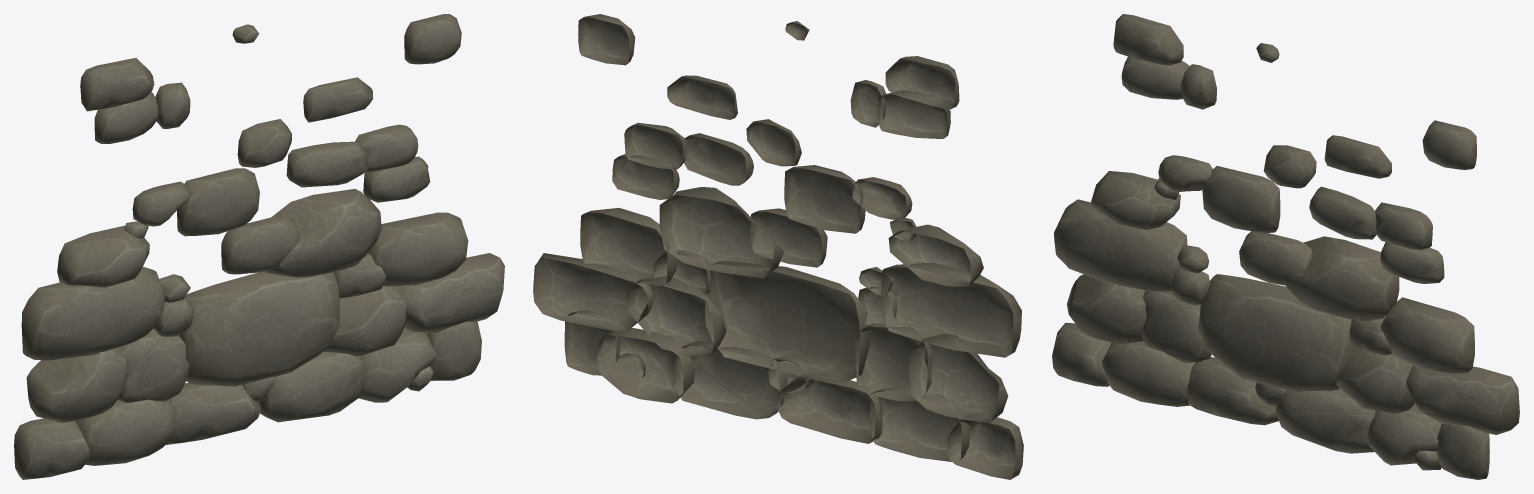
The model's file is MSH_fwOF_Ruins_Wall_Bricks_02.fbx.
The picture shows the model from 3 angles, left to right: view 1: azimuth 30°, elevation 25°; view 2: azimuth 150°, elevation 25°; view 3: azimuth 330°, elevation 25°; orthographic projection. The views are drawn at different scales.
Visible parts, largest first — view 1: MSH_fwOF_Ruins_Wall_Bricks_02; view 2: MSH_fwOF_Ruins_Wall_Bricks_02; view 3: MSH_fwOF_Ruins_Wall_Bricks_02.
Boxes of the visible parts, x1,y1,x2,y2 form: MSH_fwOF_Ruins_Wall_Bricks_02: (14, 14, 504, 479); MSH_fwOF_Ruins_Wall_Bricks_02: (533, 14, 1023, 479); MSH_fwOF_Ruins_Wall_Bricks_02: (1052, 14, 1519, 479).
Size of the model in its own units: 4.3 by 3.45 by 0.3695.
